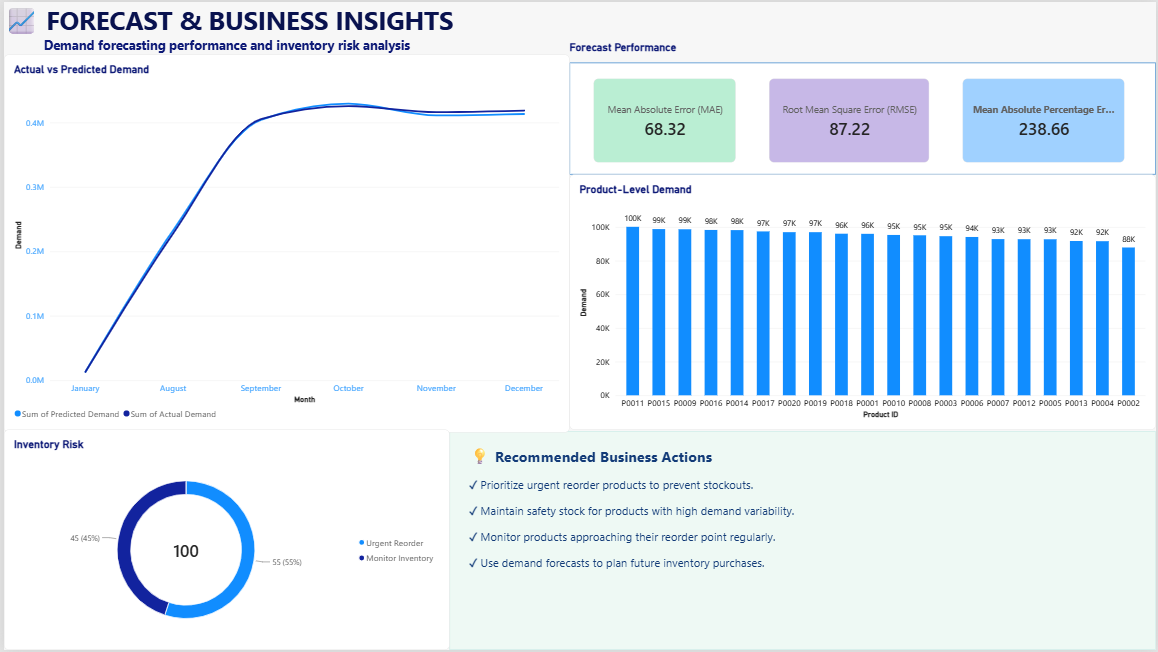

The page's visual inventory and layout, read from the dashboard file:
{"tool":"powerbi","page":{"name":"Forecast & Business Insights","canvas":[1920,1080],"ordinal":2},"visuals":[{"type":"shape","box":[742.5,715,1177.5,365],"z":0},{"type":"shape","title":"    Forecast Performance","box":[942.5,65,977.5,222.5],"z":1000},{"type":"cardVisual","fields":{"Data":["final_demand_forecast.RMSE"]},"box":[1275,127.5,267.5,140],"z":2000},{"type":"textbox","box":[0,0,1920.7,109.8],"z":3000},{"type":"lineChart","title":"Actual vs Predicted Demand","fields":{"Category":["final_demand_forecast.Date.Variation.Date Hierarchy.Month"],"Y":["Sum(final_demand_forecast.Predicted Demand)","Sum(final_demand_forecast.Actual Demand)"]},"box":[0,86.7,942.5,630],"z":4000},{"type":"cardVisual","fields":{"Data":["final_demand_forecast.MAE"]},"box":[982.5,127.5,237.5,140],"z":5000},{"type":"cardVisual","fields":{"Data":["final_demand_forecast.MAPE"]},"box":[1597.5,127.5,270,140],"z":6000},{"type":"clusteredColumnChart","title":"Product-Level Demand","fields":{"Category":["final_demand_forecast.Product ID"],"Y":["Sum(final_demand_forecast.Actual Demand)"]},"box":[942.5,287.5,977.5,425],"z":7000},{"type":"donutChart","title":"Inventory Risk","fields":{"Category":["final_inventory_optimization.Inventory Status"],"Y":["CountNonNull(final_inventory_optimization.Product ID)"]},"box":[0,712.5,742.5,367.5],"z":8000},{"type":"textbox","box":[112,896,400,184],"z":9000},{"type":"textbox","box":[775,737.5,1145,342.5],"z":10000}]}

Visuals, with their boxes in screenshot pixels (x1, y1, x2, y2), scaled from the page's 1920x1080 canvas onto the 1158x652 screenshot:
shape: 448:432:1157:651
"    Forecast Performance" shape: 568:39:1157:174
cardVisual - final_demand_forecast.RMSE: 769:77:930:161
textbox: 0:0:1157:66
"Actual vs Predicted Demand" lineChart: 0:52:568:433
cardVisual - final_demand_forecast.MAE: 593:77:736:161
cardVisual - final_demand_forecast.MAPE: 963:77:1126:161
"Product-Level Demand" clusteredColumnChart: 568:174:1157:430
"Inventory Risk" donutChart: 0:430:448:651
textbox: 68:541:309:651
textbox: 467:445:1157:651
